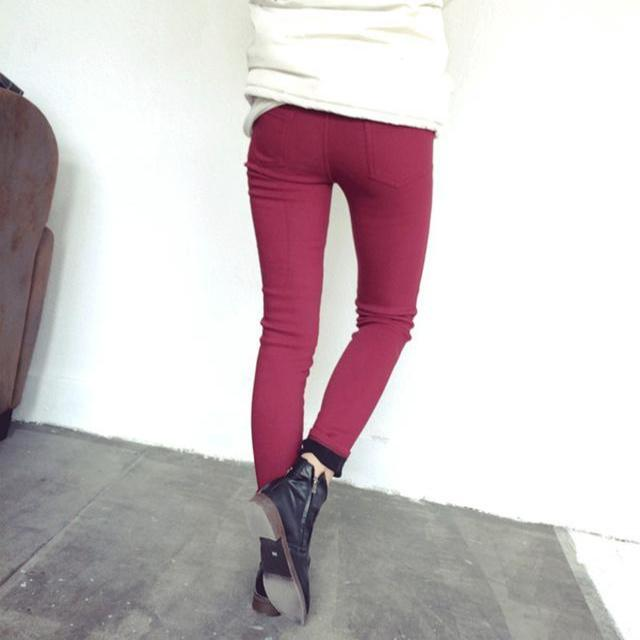trousers: (253, 78, 431, 520)
